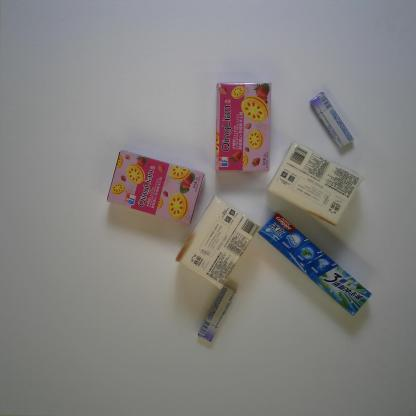Candy: (310, 91, 354, 148), (197, 284, 237, 343)
Dessert: (106, 149, 205, 225), (214, 82, 272, 173)
Personal Hygiene: (258, 212, 372, 316)
Tissue: (173, 194, 263, 291), (267, 141, 364, 226)
